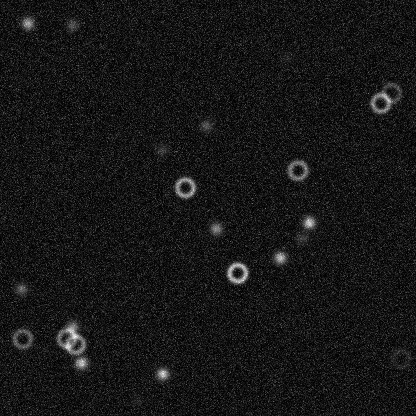Ring: (63, 332, 87, 356), (285, 158, 309, 182), (368, 90, 392, 114), (10, 326, 34, 350), (388, 346, 412, 370), (225, 260, 249, 284), (379, 80, 403, 104), (54, 326, 78, 350), (173, 175, 197, 199)
Spot: (278, 49, 294, 65), (19, 15, 35, 31), (154, 141, 170, 157), (64, 319, 80, 335), (73, 354, 89, 370), (13, 280, 29, 296), (154, 365, 170, 381), (300, 214, 316, 230), (272, 249, 288, 265), (127, 391, 143, 407), (294, 229, 310, 245), (208, 220, 224, 236), (198, 117, 214, 133), (64, 17, 80, 33)
